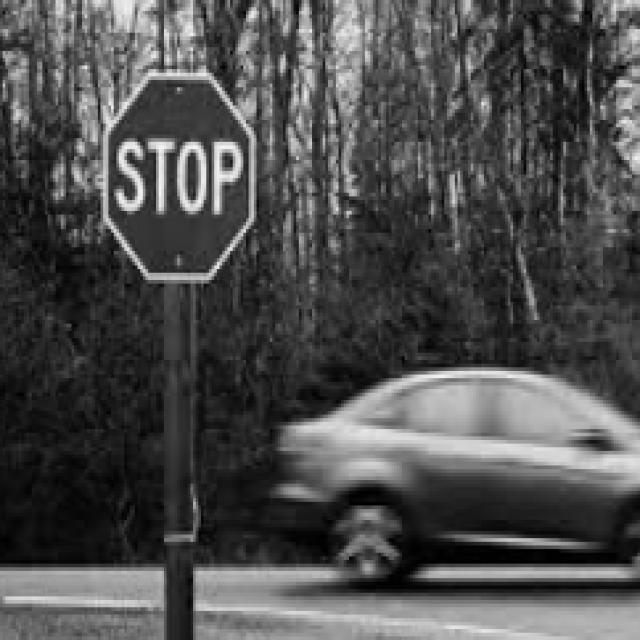Stop-signs: (104, 75, 256, 281)
